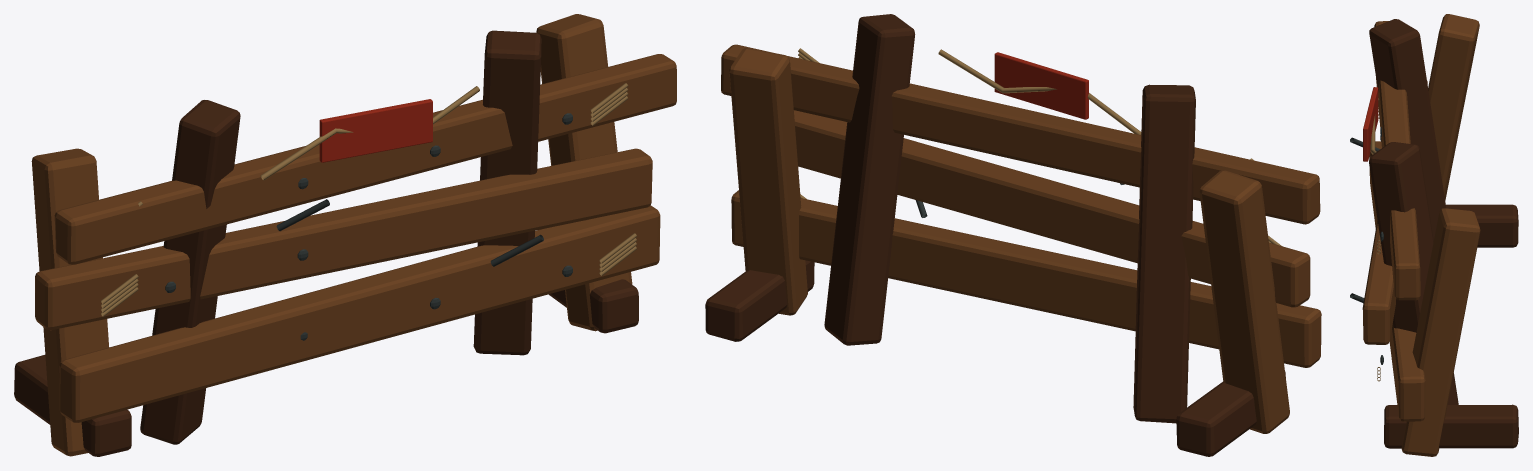
Rendered from wood_barricade_breakable_LOD0.glb.
3 renders of one model, left to right at view 1: azimuth 30°, elevation 25°; view 2: azimuth 150°, elevation 25°; view 3: azimuth 270°, elevation 25°, orthographic. The views are drawn at different scales.
Visible parts, largest first — view 1: BarricadeIntactBoard, BarricadeIntactBoard.001, BarricadeIntactBoard.002, BarricadeIntactBoard.005, BarricadeIntactBoard.006, BarricadeIntactBoard.003, BarricadeIntactBoard.004, BarricadeTornWarningCloth, BarricadeIntactBoard.007, BarricadeIntactBoard.008, BarricadeWarningCord; view 2: BarricadeIntactBoard, BarricadeIntactBoard.002, BarricadeIntactBoard.001, BarricadeIntactBoard.006, BarricadeIntactBoard.005, BarricadeIntactBoard.003, BarricadeIntactBoard.004, BarricadeIntactBoard.008, BarricadeIntactBoard.007, BarricadeTornWarningCloth, BarricadeWarningCord; view 3: BarricadeIntactBoard.004, BarricadeIntactBoard.006, BarricadeIntactBoard.005, BarricadeIntactBoard.003, BarricadeIntactBoard.002, BarricadeIntactBoard.008, BarricadeIntactBoard, BarricadeIntactBoard.001, BarricadeIntactBoard.007, BarricadeTornWarningCloth.
Part boxes in pixels (x1=…): BarricadeIntactBoard: x1=59, y1=205, x2=660, y2=422; BarricadeIntactBoard.001: x1=35, y1=148, x2=652, y2=330; BarricadeIntactBoard.002: x1=54, y1=54, x2=676, y2=264; BarricadeIntactBoard.005: x1=140, y1=100, x2=240, y2=444; BarricadeIntactBoard.006: x1=473, y1=30, x2=541, y2=355; BarricadeIntactBoard.003: x1=31, y1=148, x2=109, y2=456; BarricadeIntactBoard.004: x1=536, y1=14, x2=632, y2=331; BarricadeTornWarningCloth: x1=319, y1=99, x2=432, y2=162; BarricadeIntactBoard.007: x1=14, y1=355, x2=131, y2=456; BarricadeIntactBoard.008: x1=548, y1=279, x2=638, y2=333; BarricadeWarningCord: x1=260, y1=86, x2=479, y2=180; BarricadeIntactBoard: x1=731, y1=190, x2=1321, y2=367; BarricadeIntactBoard.002: x1=721, y1=44, x2=1320, y2=224; BarricadeIntactBoard.001: x1=794, y1=110, x2=1310, y2=307; BarricadeIntactBoard.006: x1=824, y1=14, x2=915, y2=345; BarricadeIntactBoard.005: x1=1133, y1=84, x2=1195, y2=423; BarricadeIntactBoard.003: x1=1199, y1=170, x2=1289, y2=433; BarricadeIntactBoard.004: x1=729, y1=48, x2=807, y2=315; BarricadeIntactBoard.008: x1=705, y1=260, x2=814, y2=341; BarricadeIntactBoard.007: x1=1176, y1=371, x2=1285, y2=456; BarricadeTornWarningCloth: x1=994, y1=52, x2=1088, y2=119; BarricadeWarningCord: x1=938, y1=49, x2=1141, y2=134; BarricadeIntactBoard.004: x1=1401, y1=208, x2=1480, y2=456; BarricadeIntactBoard.006: x1=1369, y1=142, x2=1458, y2=404; BarricadeIntactBoard.005: x1=1369, y1=19, x2=1446, y2=240; BarricadeIntactBoard.003: x1=1428, y1=14, x2=1479, y2=200; BarricadeIntactBoard.002: x1=1374, y1=21, x2=1420, y2=300; BarricadeIntactBoard.008: x1=1384, y1=404, x2=1518, y2=448; BarricadeIntactBoard: x1=1369, y1=141, x2=1425, y2=421; BarricadeIntactBoard.001: x1=1362, y1=81, x2=1427, y2=344; BarricadeIntactBoard.007: x1=1446, y1=204, x2=1518, y2=247; BarricadeTornWarningCloth: x1=1363, y1=87, x2=1378, y2=161.
Size of the model in its own units: 2.84 by 1.46 by 0.8191.
